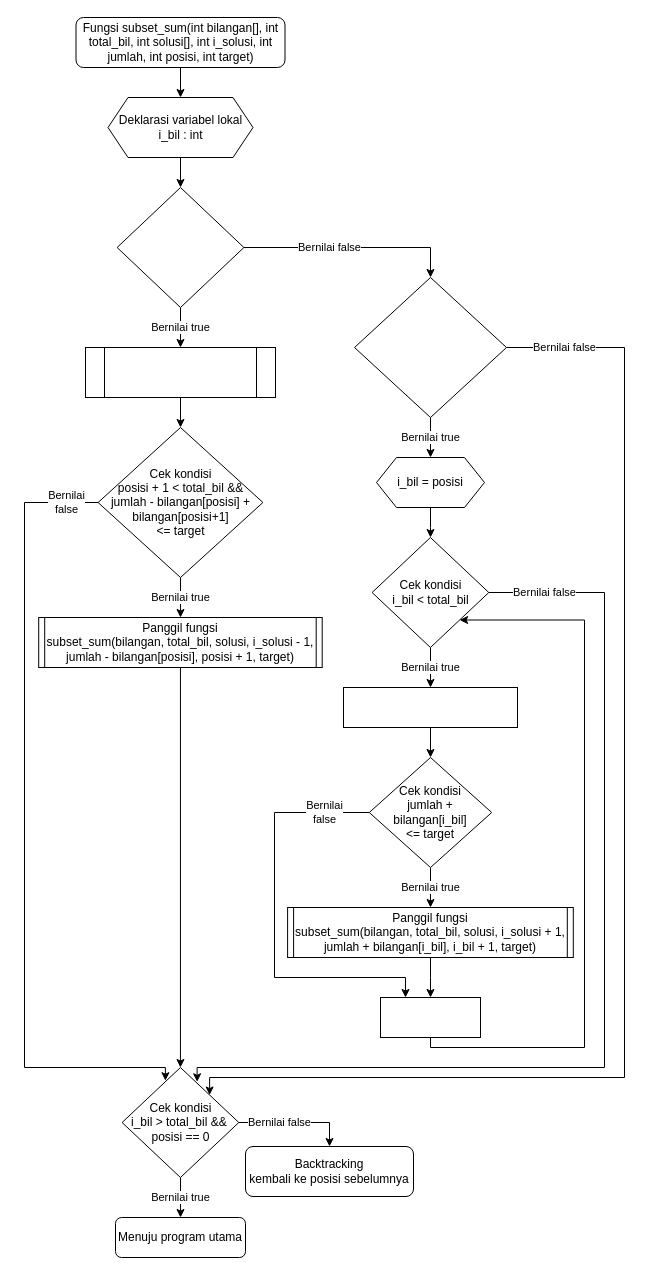
Some shapes in this 650 by 1275 pixel diagram are drawn without their labels. The box of each missing label's shape, as (x1, y1, x2, y2) in pixels:
Cek kondisi jumlah == target: (116, 186, 244, 308)
Cek kondisi posisi < total_bil && jumlah + bilangan[posisi] <= target: (354, 276, 506, 418)
i_bil++: (380, 996, 480, 1038)
Panggil fungsi printSubset(solusi, i_solusi): (84, 346, 276, 398)
solusi[i_solusi] = bilangan[i_bil]: (342, 686, 518, 728)
